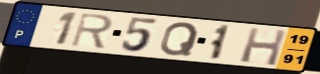1: (52, 10, 80, 46), (211, 23, 233, 62)
5: (120, 17, 162, 54)
H: (238, 26, 289, 68)
Q: (158, 21, 201, 57)
R: (69, 11, 115, 50)
